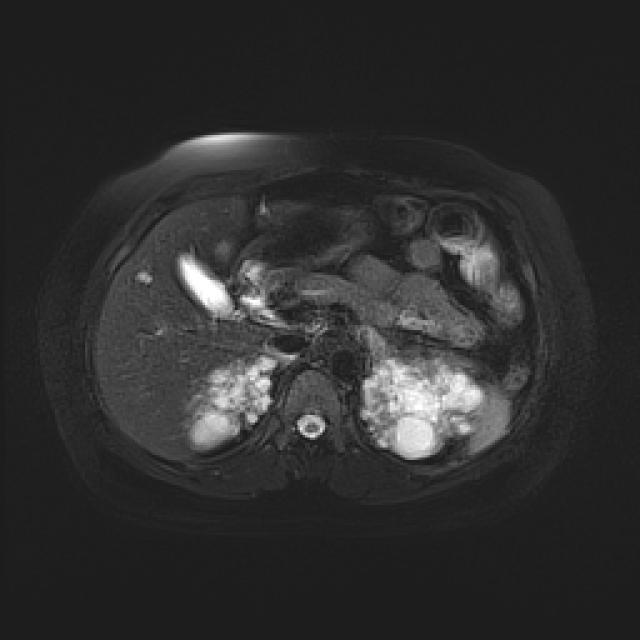sag: (184, 354, 279, 455)
sol: (358, 354, 487, 461)
